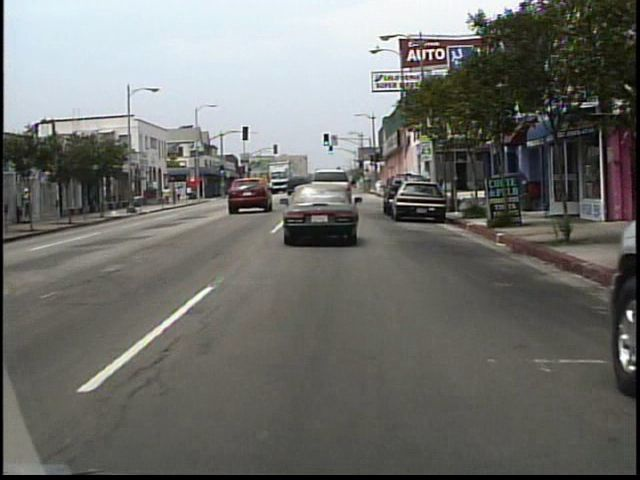person: (23, 185, 33, 223), (164, 186, 172, 206), (173, 186, 179, 205)
